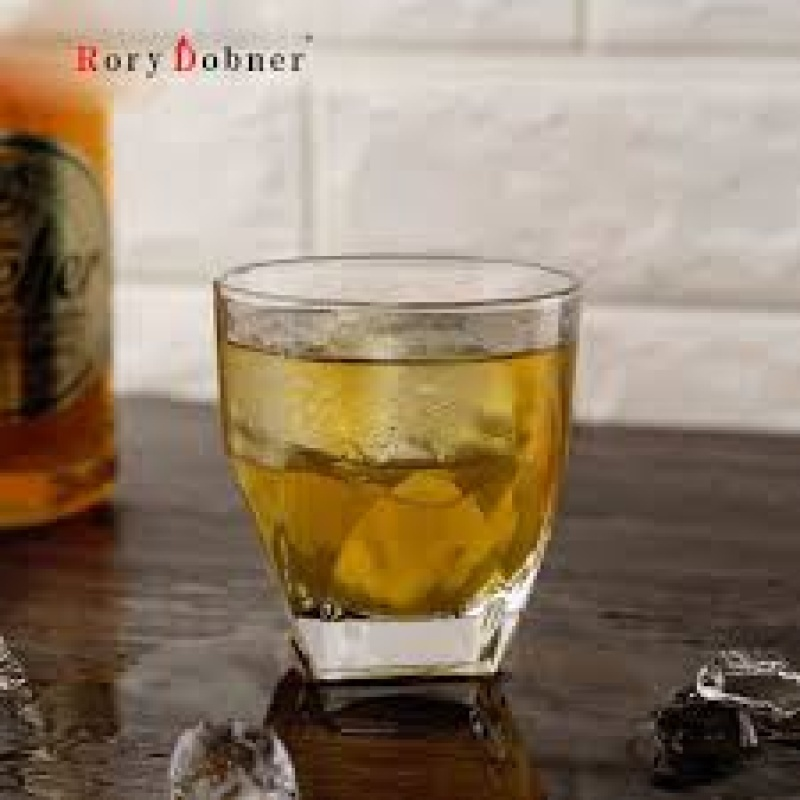whiskey: (211, 257, 572, 691)
